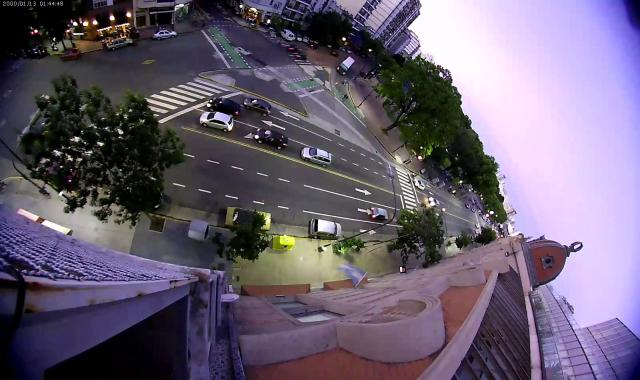bus: (336, 56, 355, 76)
car: (224, 206, 272, 232), (199, 111, 234, 133), (207, 97, 241, 118), (255, 129, 289, 150), (308, 218, 342, 239), (300, 147, 332, 167), (244, 97, 272, 116), (105, 37, 134, 52), (23, 45, 49, 59), (152, 29, 177, 41), (60, 48, 80, 61), (371, 207, 389, 220), (280, 29, 294, 41), (414, 179, 425, 190), (428, 197, 440, 207), (294, 52, 308, 60), (285, 44, 299, 52), (308, 42, 320, 50), (329, 50, 339, 57), (302, 36, 310, 43), (296, 34, 302, 42), (475, 223, 480, 229), (465, 203, 470, 209), (474, 229, 479, 234), (471, 208, 476, 212)
